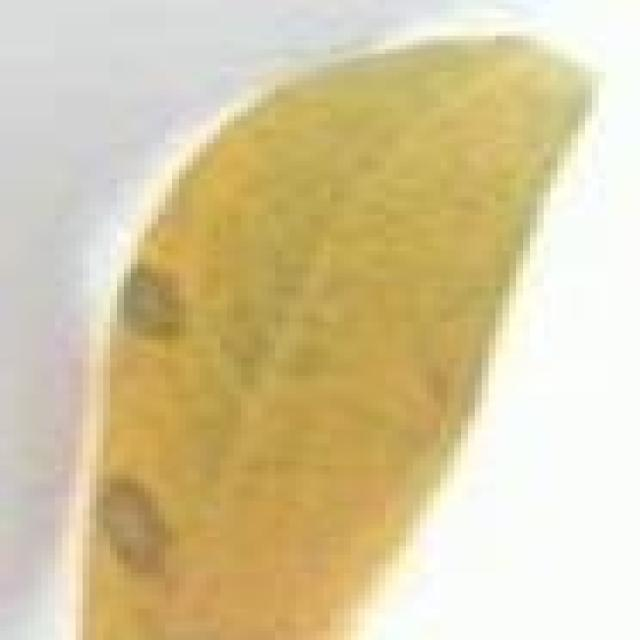OlivePeacockSpot: (83, 35, 585, 636)
